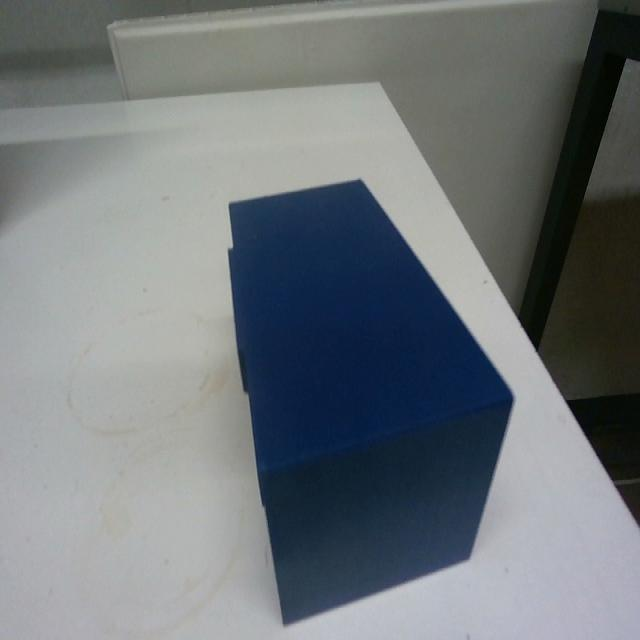Blue Cuboid: (224, 174, 516, 626)
